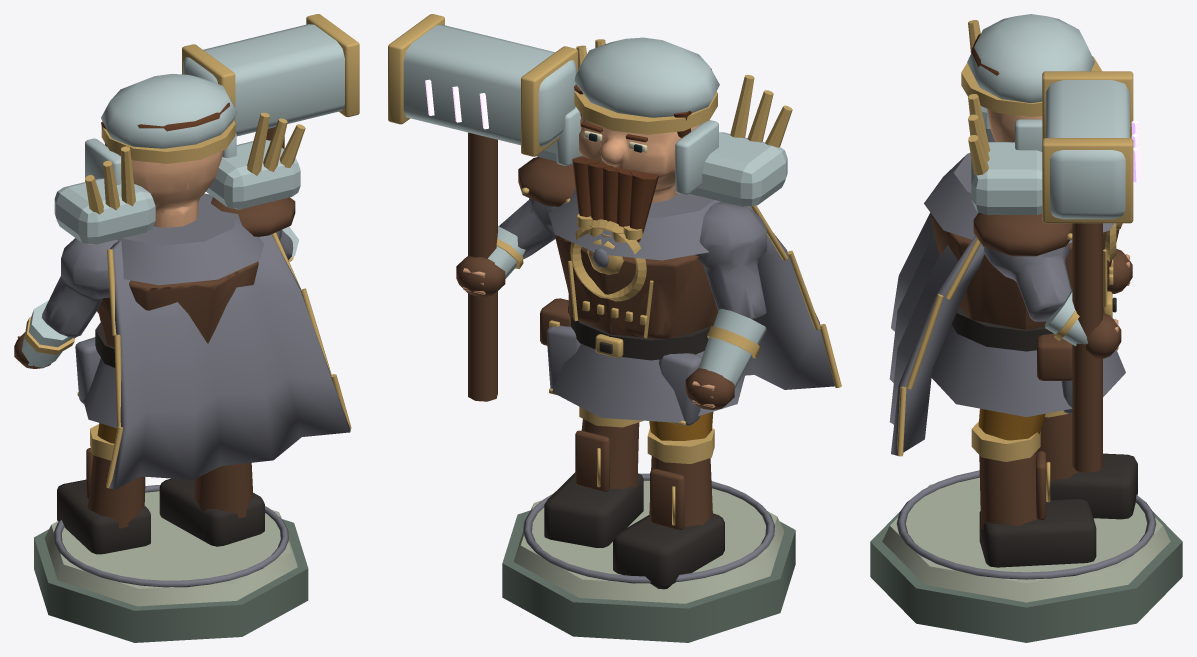
The model's file is advanced_ironrune.glb.
3 renders of one model, left to right at view 1: azimuth 30°, elevation 25°; view 2: azimuth 150°, elevation 25°; view 3: azimuth 270°, elevation 25°, orthographic. The views are drawn at different scales.
Visible parts, largest first — view 1: Rank inlay.001, Forged helmet dome.001, Beveled limestone top.001, Boot cuff.002, Boot shaft.002, Octagonal footing.001, Leather boot toe.002, Unified face and neck.001, Auburn eyebrow.002; view 2: Forged helmet dome.001, Rank inlay.001, Boot shaft.002, Boot cuff.002, Leather boot toe.002, Octagonal footing.001, Beveled limestone top.001, Auburn eyebrow.002, Unified face and neck.001, Trouser leg.002, Hammer rune.003; view 3: Rank inlay.001, Boot shaft.002, Forged helmet dome.001, Beveled limestone top.001, Octagonal footing.001, Boot cuff.002, Leather boot toe.002, Trouser leg.002, Unified face and neck.001.
Boxes of the visible parts, bbox=[...] form: Rank inlay.001: bbox=[41, 193, 350, 587]; Forged helmet dome.001: bbox=[21, 24, 344, 367]; Beveled limestone top.001: bbox=[44, 491, 297, 606]; Boot cuff.002: bbox=[24, 14, 359, 488]; Boot shaft.002: bbox=[14, 127, 295, 528]; Octagonal footing.001: bbox=[34, 519, 308, 642]; Leather boot toe.002: bbox=[57, 322, 264, 554]; Unified face and neck.001: bbox=[17, 151, 222, 338]; Auburn eyebrow.002: bbox=[101, 102, 229, 146]; Forged helmet dome.001: bbox=[403, 24, 787, 389]; Rank inlay.001: bbox=[499, 188, 834, 583]; Boot shaft.002: bbox=[456, 132, 734, 529]; Boot cuff.002: bbox=[388, 14, 841, 525]; Leather boot toe.002: bbox=[544, 305, 724, 589]; Octagonal footing.001: bbox=[502, 510, 795, 642]; Beveled limestone top.001: bbox=[513, 480, 784, 603]; Auburn eyebrow.002: bbox=[572, 68, 711, 242]; Unified face and neck.001: bbox=[463, 115, 715, 407]; Trouser leg.002: bbox=[649, 412, 713, 440]; Hammer rune.003: bbox=[425, 79, 488, 129]; Rank inlay.001: bbox=[889, 137, 1156, 579]; Boot shaft.002: bbox=[930, 212, 1132, 529]; Forged helmet dome.001: bbox=[967, 14, 1129, 346]; Beveled limestone top.001: bbox=[882, 477, 1170, 602]; Octagonal footing.001: bbox=[870, 512, 1182, 642]; Boot cuff.002: bbox=[897, 20, 1133, 502]; Leather boot toe.002: bbox=[951, 297, 1137, 567]; Trouser leg.002: bbox=[978, 408, 1045, 440]; Unified face and neck.001: bbox=[987, 109, 1130, 350].
Bounding box in the file's own units: 1.17 × 1.71 × 0.88.
